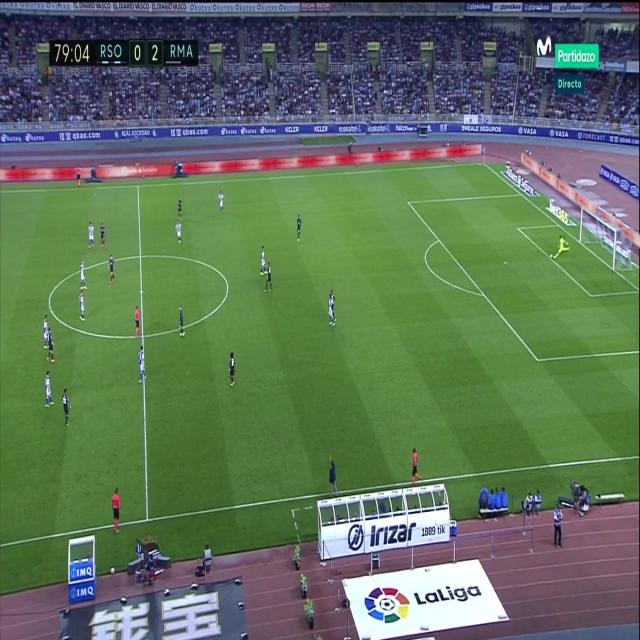Ball: (549, 252, 553, 260)
Goalkeeper: (554, 234, 572, 260)
Player: (46, 326, 58, 366), (136, 346, 147, 387), (324, 293, 336, 330), (262, 260, 274, 296), (43, 371, 54, 410), (62, 386, 72, 428), (228, 348, 237, 394), (293, 211, 305, 245), (176, 302, 186, 341), (108, 252, 117, 289), (258, 242, 267, 278), (87, 220, 96, 253), (42, 313, 49, 352), (80, 259, 88, 293), (98, 220, 106, 251), (79, 288, 85, 326), (175, 220, 183, 248), (176, 195, 183, 224), (218, 188, 225, 214)
Referee: (110, 486, 122, 536), (410, 445, 422, 486), (132, 302, 141, 340), (75, 164, 82, 188)
